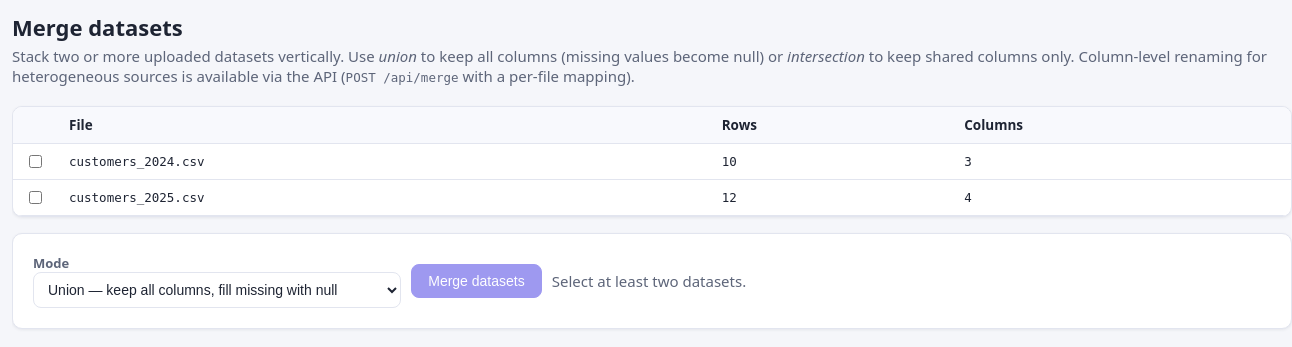
Test: MergePage › disables merging until two datasets are selected
The image size is (1292, 347).
Expected: the table with test id "merge-table" is shown, [13, 107, 1291, 216]
Expected: the button "Merge datasets" is disabled, [411, 264, 542, 298]
What coordinates should you click on to do the following:
click the checkbox named "customers_2024"
I would click on:
 (36, 162)
Its box is [29, 155, 42, 168].
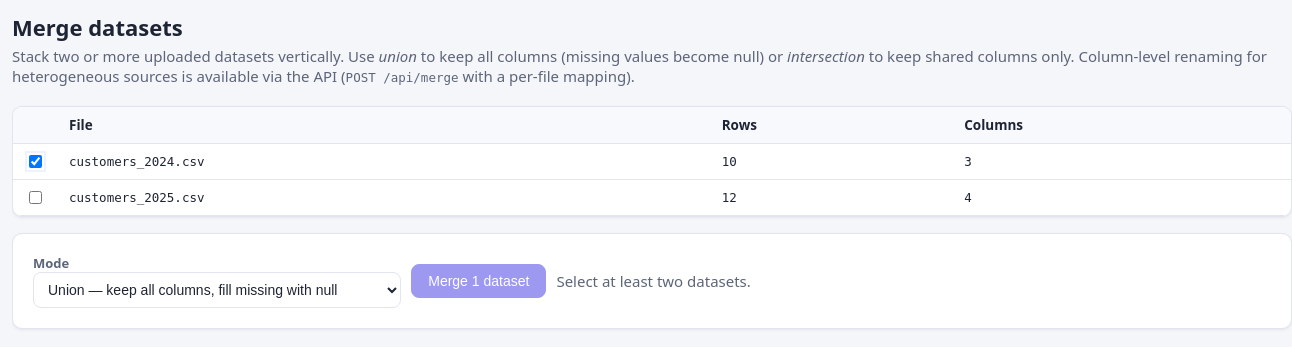
Expected: the button "Merge 1 dataset" is disabled, [411, 264, 546, 298]
What coordinates should you click on to do the following:
click the checkbox named "customers_2025"
I would click on:
 (36, 198)
Its box is [29, 191, 42, 204].
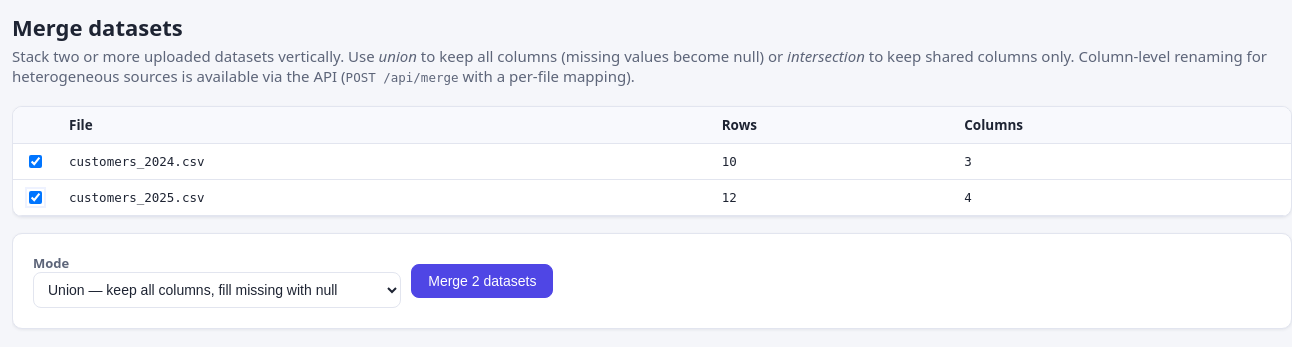
Expected: the button "Merge 2 datasets" is enabled, [411, 264, 553, 298]
